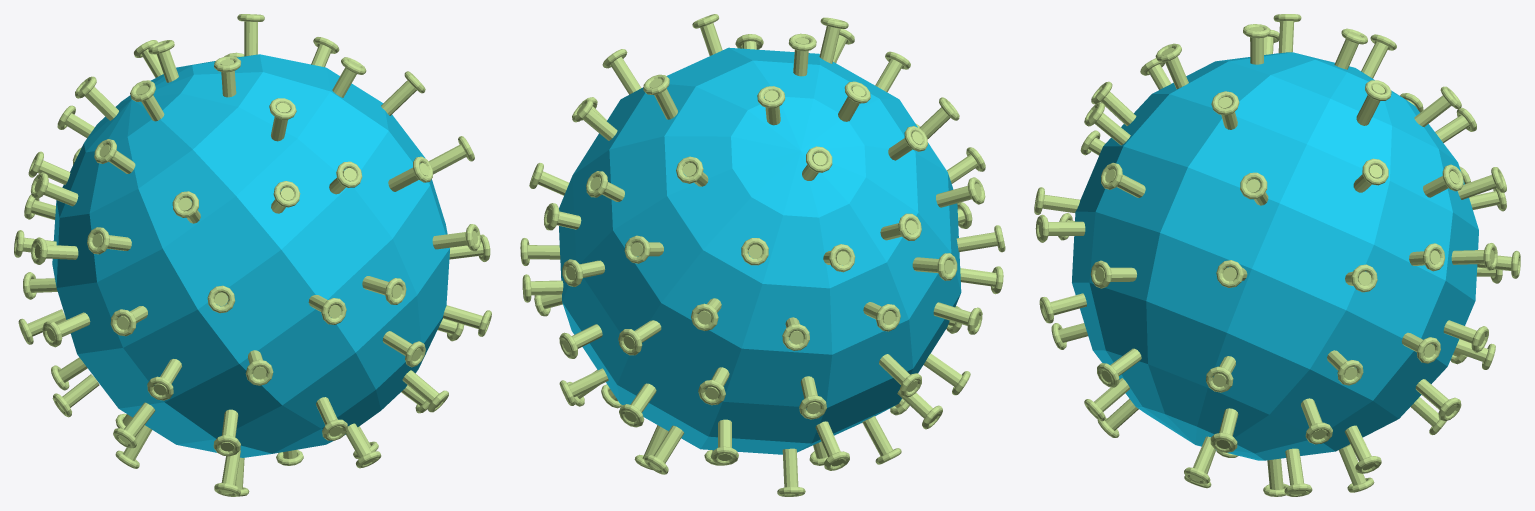
File: virus.glb
3 renders of one model, left to right at view 1: azimuth 30°, elevation 25°; view 2: azimuth 150°, elevation 25°; view 3: azimuth 270°, elevation 25°, orthographic.
Visible parts, largest first — view 1: group1637546415, group1419972821, group667962533, group1772713275, group1323126410, group578493139, group721235165, group1417404875, group1135978531, group616610192, group1938371169, group293761056 (+32 smaller); view 2: group1637546415, group904788383, group1419972821, group578493139, group1009221418, group2101280844, group1142733883, group2085189032, group141098286, group1135978531, group1989040135, group400133709 (+35 smaller); view 3: group1637546415, group130103664, group39439029, group1417404875, group141098286, group698154983, group721235165, group1938371169, group298856265, group116698468, group1560974964, group689996866 (+32 smaller).
Part boxes in pixels (bbox=[...]): group1637546415: bbox=[52, 54, 449, 457]; group1419972821: bbox=[42, 312, 90, 347]; group667962533: bbox=[213, 409, 240, 456]; group1772713275: bbox=[113, 402, 155, 448]; group1323126410: bbox=[31, 172, 78, 206]; group578493139: bbox=[87, 227, 131, 254]; group721235165: bbox=[432, 224, 480, 251]; group1417404875: bbox=[388, 156, 432, 191]; group1135978531: bbox=[31, 237, 78, 264]; group616610192: bbox=[147, 359, 181, 400]; group1938371169: bbox=[362, 276, 406, 304]; group293761056: bbox=[382, 331, 425, 367]; group1637546415: bbox=[559, 47, 961, 454]; group904788383: bbox=[815, 421, 849, 470]; group1419972821: bbox=[933, 302, 982, 334]; group578493139: bbox=[936, 177, 985, 207]; group1009221418: bbox=[879, 354, 921, 397]; group2101280844: bbox=[644, 425, 684, 474]; group1142733883: bbox=[618, 320, 661, 355]; group2085189032: bbox=[619, 383, 656, 427]; group141098286: bbox=[643, 74, 677, 119]; group1135978531: bbox=[912, 253, 957, 280]; group1989040135: bbox=[799, 376, 826, 419]; group400133709: bbox=[777, 448, 805, 496]; group1637546415: bbox=[1072, 52, 1478, 460]; group130103664: bbox=[1415, 379, 1461, 421]; group39439029: bbox=[1301, 398, 1332, 444]; group1417404875: bbox=[1101, 162, 1145, 197]; group141098286: bbox=[1356, 80, 1391, 125]; group698154983: bbox=[1097, 348, 1141, 387]; group721235165: bbox=[1090, 260, 1136, 288]; group1938371169: bbox=[1035, 214, 1085, 242]; group298856265: bbox=[1344, 425, 1381, 473]; group116698468: bbox=[1284, 448, 1312, 496]; group1560974964: bbox=[1084, 102, 1130, 145]; group689996866: bbox=[1210, 408, 1238, 452].
Bounding box in the file's own units: 0.6909 × 0.672 × 0.6868.
